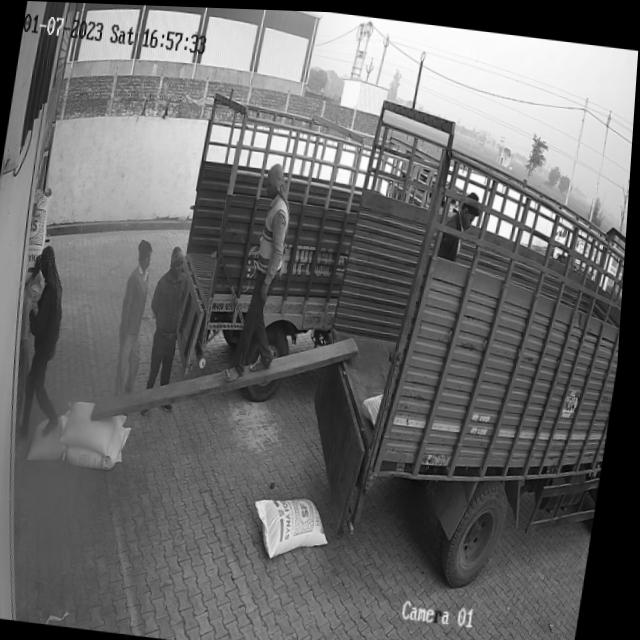sack: (255, 490, 340, 560), (63, 397, 134, 457), (66, 419, 136, 472), (31, 411, 78, 464)
